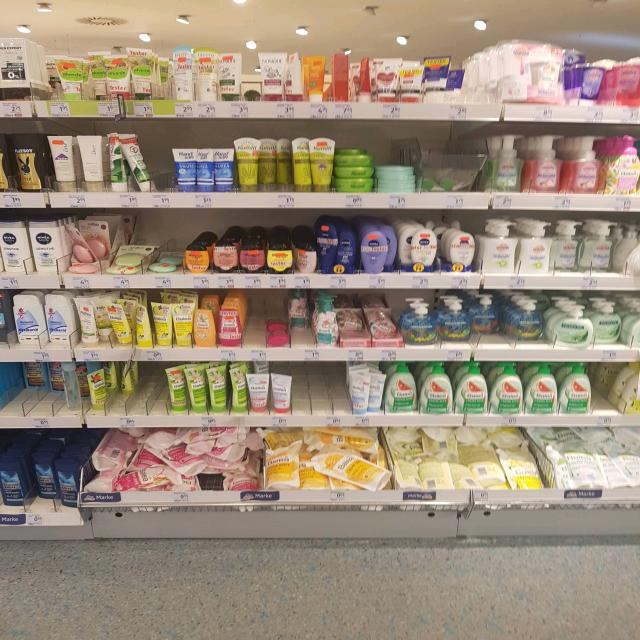unorganised: (90, 428, 260, 493), (497, 33, 570, 109), (304, 428, 387, 492), (71, 294, 133, 349), (20, 361, 88, 410), (105, 130, 155, 194), (255, 135, 313, 189), (64, 219, 103, 273), (581, 215, 612, 276), (76, 132, 106, 195), (135, 301, 173, 349), (49, 51, 85, 101), (197, 148, 234, 192), (349, 369, 386, 413), (552, 222, 579, 276), (472, 292, 503, 339), (517, 299, 547, 347), (83, 362, 112, 409), (594, 301, 621, 349), (56, 457, 80, 511), (190, 307, 218, 350), (31, 453, 56, 501), (330, 49, 352, 103), (85, 50, 106, 104), (287, 291, 312, 331), (229, 363, 248, 413), (446, 62, 468, 103), (270, 372, 291, 414), (354, 56, 373, 101), (286, 52, 303, 101), (337, 308, 365, 335), (294, 245, 318, 274), (118, 362, 138, 393), (397, 227, 412, 266), (386, 230, 397, 269)
